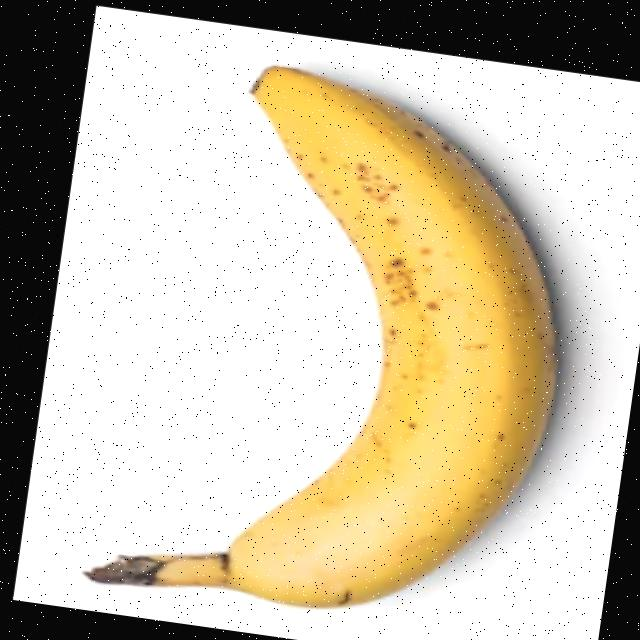banana: (81, 47, 599, 639)
